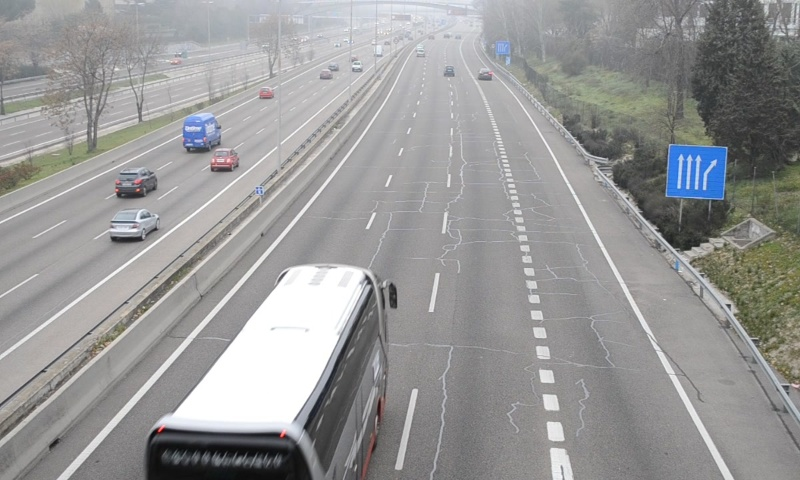bus: (142, 266, 386, 479)
car: (442, 64, 456, 78), (477, 68, 492, 81)
